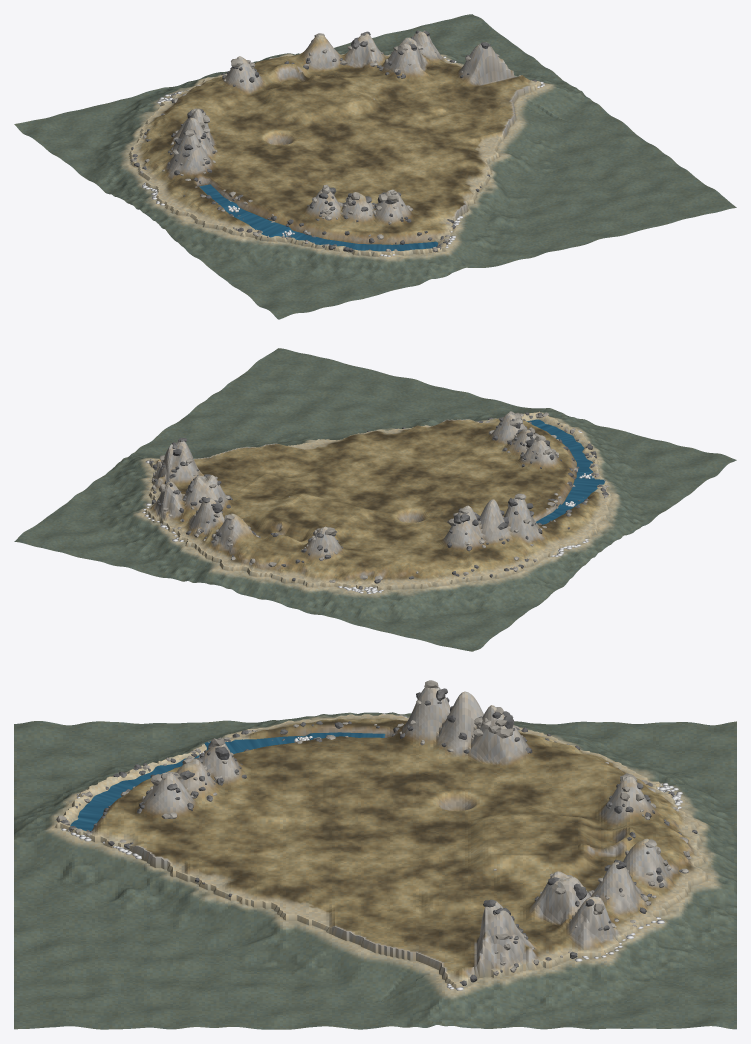
Rendered from Terrain_P3.fbx.
3 views of the same model, one above another, from view 1: azimuth 30°, elevation 25°; view 2: azimuth 150°, elevation 25°; view 3: azimuth 270°, elevation 25° (orthographic). The views are drawn at different scales.
Parts seen in each view (by area): view 1: Ground, River; view 2: Ground, River, Surf; view 3: Ground, River, Surf.
Boxes of the visible parts, x1=… form: Ground: x1=14, y1=14, x2=736, y2=319; River: x1=199, y1=184, x2=438, y2=251; Ground: x1=14, y1=348, x2=736, y2=651; River: x1=526, y1=419, x2=605, y2=524; Surf: x1=142, y1=420, x2=588, y2=593; Ground: x1=14, y1=687, x2=736, y2=1029; River: x1=70, y1=732, x2=385, y2=830; Surf: x1=61, y1=713, x2=682, y2=990.
Size of what is drawn, in the model's own units: 64000 by 8397 by 64000.
